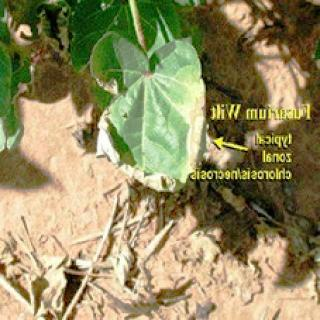wilt: (84, 71, 173, 193), (172, 69, 208, 173)
